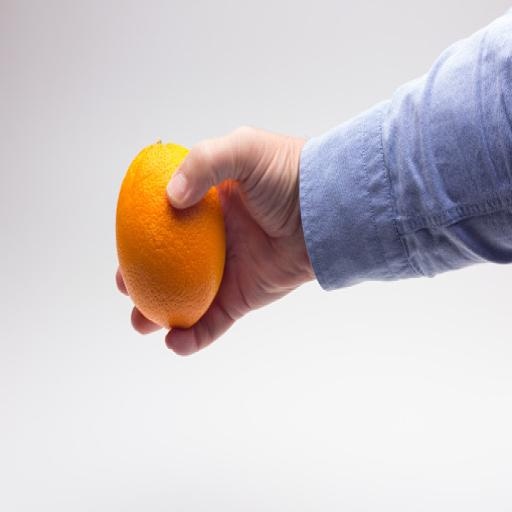orange: (116, 142, 225, 329)
